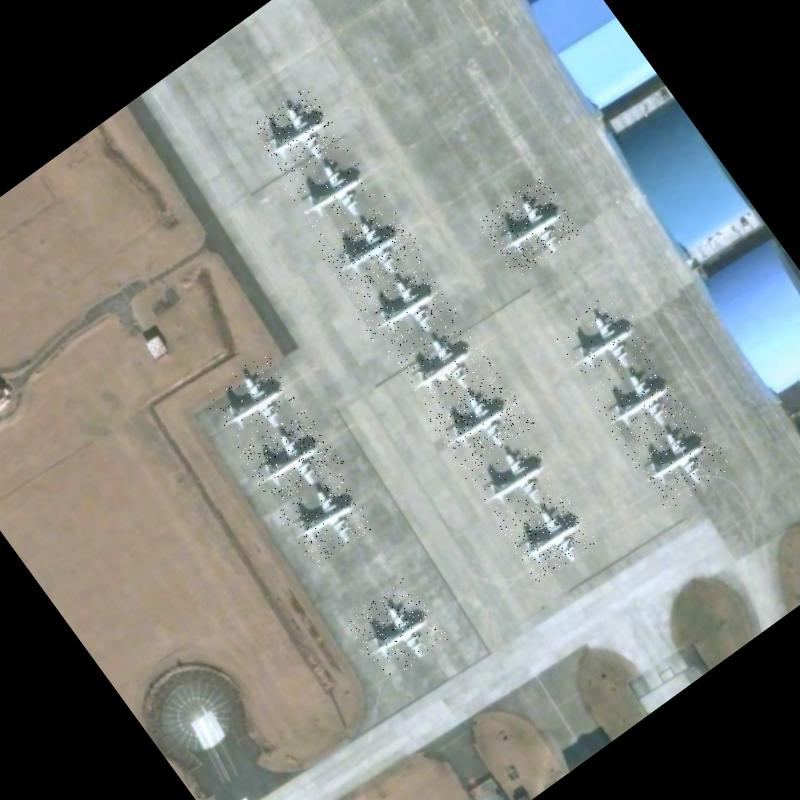A9: (200, 349, 308, 456), (349, 256, 458, 362), (427, 368, 536, 474), (474, 173, 582, 279), (316, 198, 426, 302), (626, 407, 734, 512), (550, 287, 656, 392), (238, 406, 344, 511), (344, 576, 449, 682), (272, 464, 376, 570), (282, 144, 388, 246), (390, 309, 494, 411), (586, 355, 690, 456), (463, 430, 565, 528), (499, 485, 598, 584), (249, 84, 347, 183)
